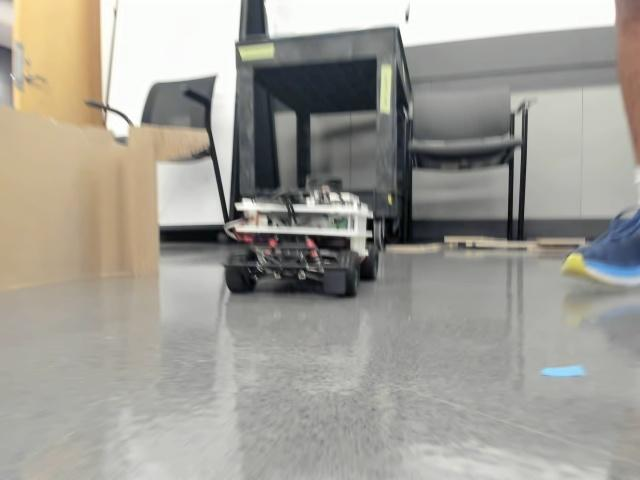Car: (225, 175, 378, 298)
